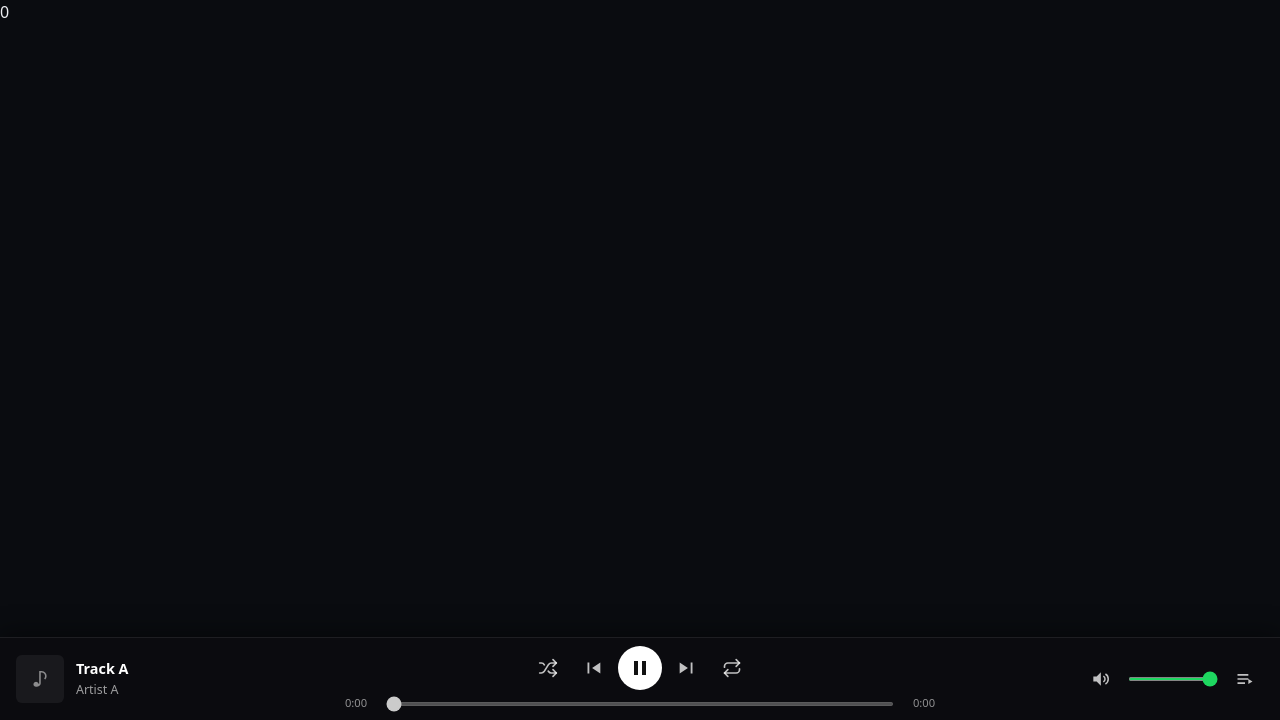
Test: NowPlayingBar — desktop layout › opens the queue drawer from the queue button
This screenshot has width=1280, height=720.
Click the button named "Cola" at (1245, 679), box [1226,660,1264,698]
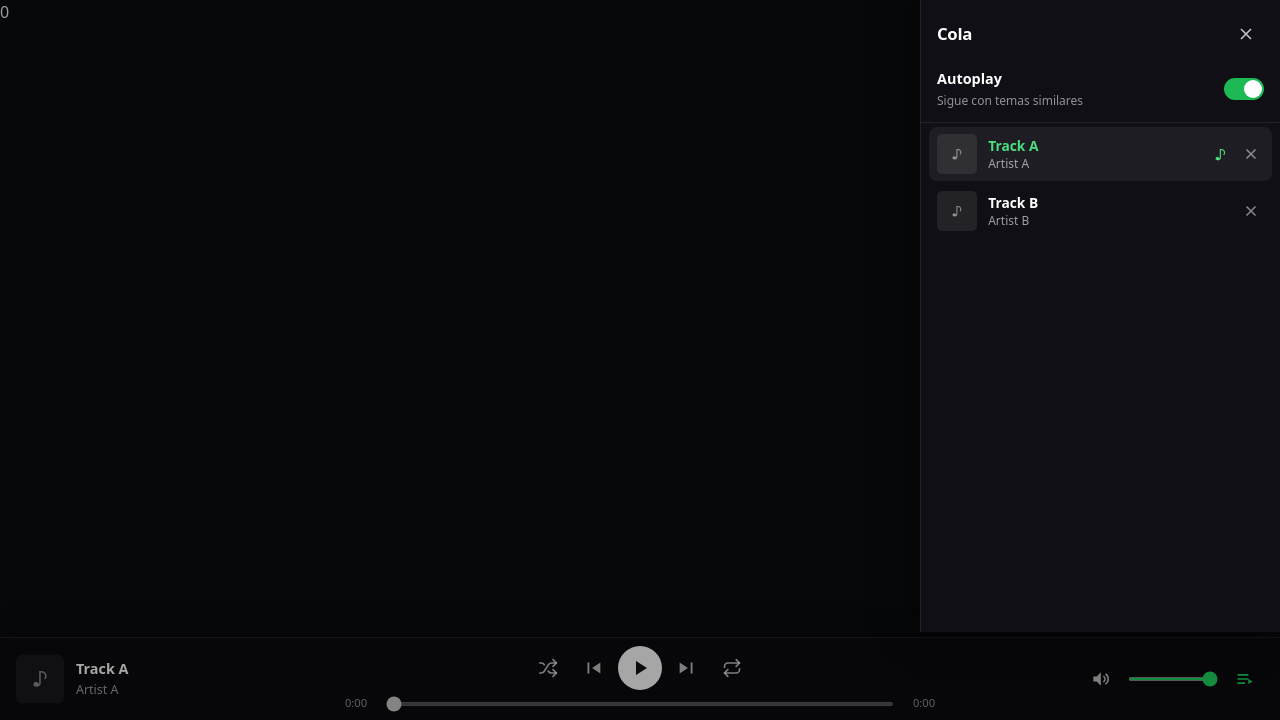
Now the dialog named "Cola de reproducción" is shown, box [920,0,1279,632]
Now the button with aria-label "Reproducir Track B" is shown, box [929,184,1234,238]
